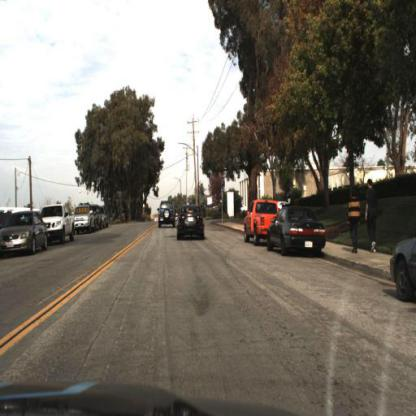car: (262, 201, 330, 267), (1, 211, 48, 260), (237, 192, 271, 252), (172, 200, 211, 247), (46, 195, 79, 249), (40, 202, 78, 248), (392, 237, 416, 303), (174, 203, 207, 244), (157, 198, 181, 235), (72, 203, 97, 235), (92, 203, 103, 232), (102, 204, 112, 230)
pedestrian: (348, 188, 362, 255), (366, 179, 378, 255)
